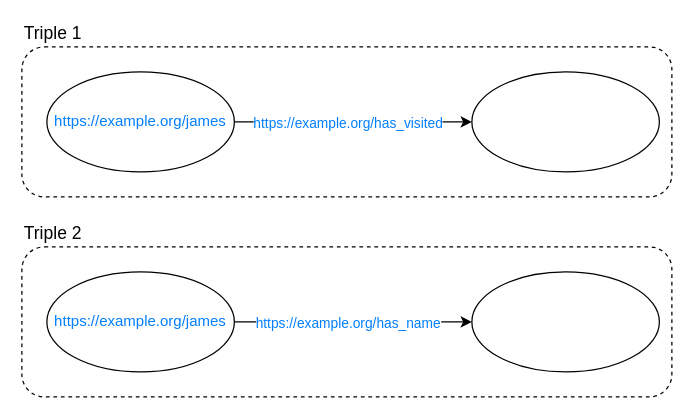
Image size: 694x419. Some labels were removed from this diagram. Each missing label, with the centre of its shape:
"james": (565,321)
https://example.org/louvre: (565,121)
